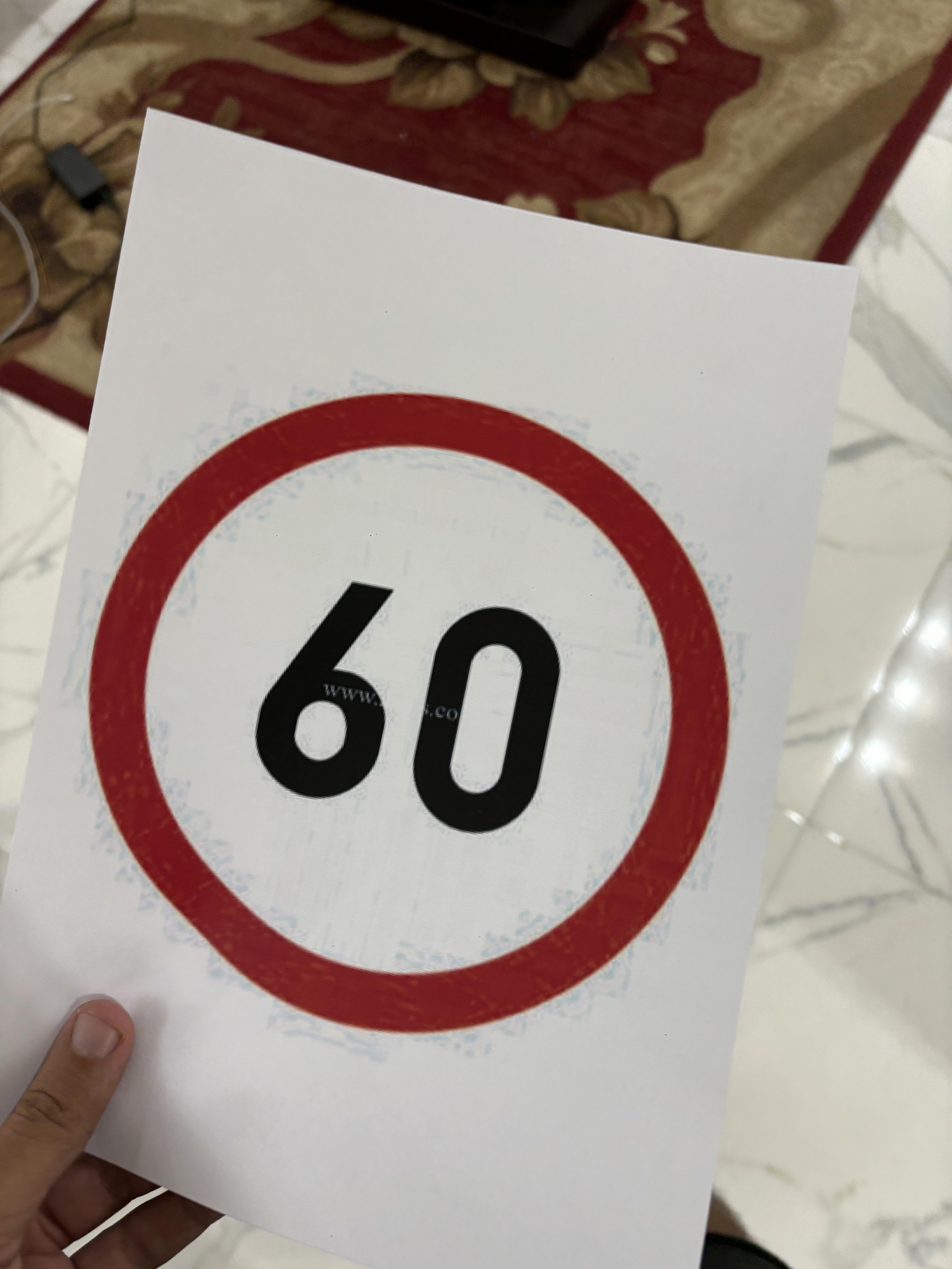60-Speed: (85, 383, 751, 1030)
